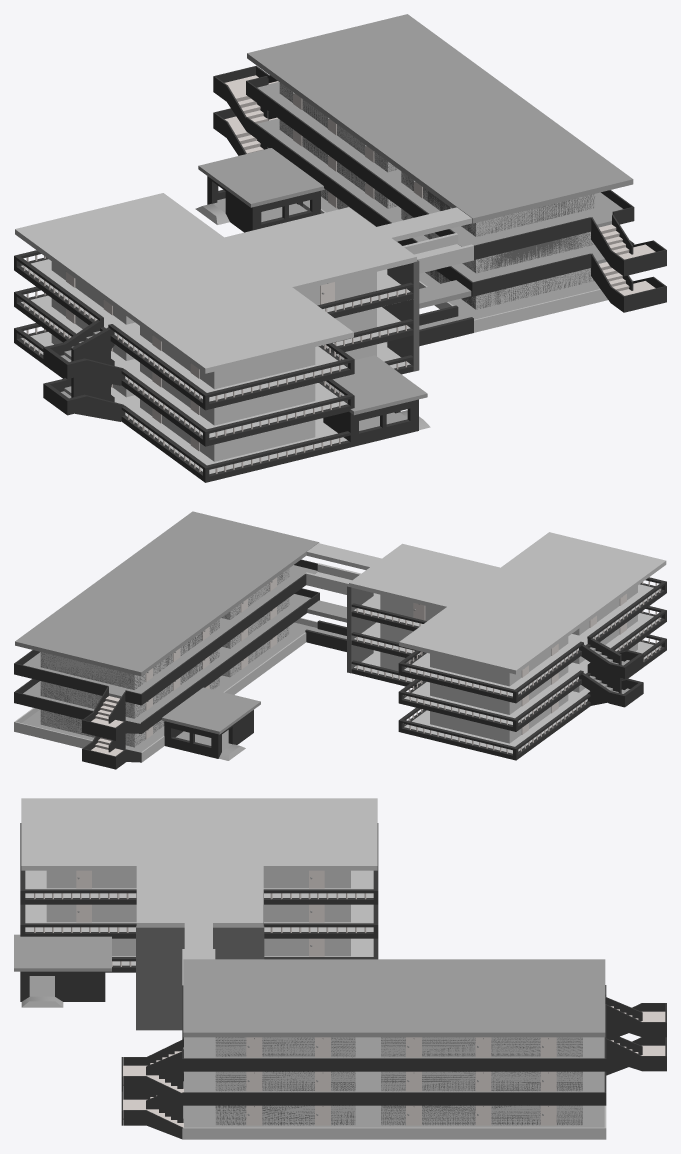
Rendered from Mansion_3.1.fbx.
3 renders of one model, top to bottom at view 1: azimuth 30°, elevation 25°; view 2: azimuth 150°, elevation 25°; view 3: azimuth 270°, elevation 25°, orthographic. The views are drawn at different scales.
Parts seen in each view (by area): view 1: 1st3F_Ceiling-MeshC, 2nd3F_Ceiling_BoxC, 2nd3F_Wall_MeshC, 2nd2F_Wall_MeshC, 2ndLobby_Ceiling-BoxC, 1st3F_Room-MeshC, 1st3F_Floor-MeshC, 2nd3F_Floor_BoxC, 1st2F_Floor-MeshC, 1st2F_Room-MeshC, PassageWay_3F-MeshC, 2nd3F_Room_MeshC (+37 smaller); view 2: 1st3F_Ceiling-MeshC, 2nd3F_Ceiling_BoxC, 2nd3F_Wall_MeshC, 2nd2F_Wall_MeshC, 2ndLobby_Ceiling-BoxC, 1st3F_Floor-MeshC, 2nd3F_Room_MeshC, 1st3F_Room-MeshC, 1st2F_Floor-MeshC, 2nd3F_Floor_BoxC, 2nd1F_Wall_MeshC, 1st2F_Room-MeshC (+35 smaller); view 3: 2nd3F_Ceiling_BoxC, 1st3F_Ceiling-MeshC, 2nd3F_Wall_MeshC, 2nd2F_Wall_MeshC, 2nd1F_Wall_MeshC, 2nd3F_Room_MeshC, 2nd2F_Room_MeshC, 2nd1F_Room_MeshC, 2ndDoor, 1stLobby_Ceiling-BoxC, 1st3F_Wall7, 2nd1F_Floor_BoxC (+33 smaller).
Boxes of the visible parts, x1,y1,x2,y2 form: 1st3F_Ceiling-MeshC: (15, 193, 416, 373); 2nd3F_Ceiling_BoxC: (247, 14, 633, 223); 2nd3F_Wall_MeshC: (246, 76, 634, 259); 2nd2F_Wall_MeshC: (246, 117, 634, 296); 2ndLobby_Ceiling-BoxC: (198, 148, 324, 207); 1st3F_Room-MeshC: (51, 261, 376, 389); 1st3F_Floor-MeshC: (21, 259, 410, 401); 2nd3F_Floor_BoxC: (257, 82, 622, 246); 1st2F_Floor-MeshC: (21, 295, 410, 437); 1st2F_Room-MeshC: (51, 298, 376, 425); PassageWay_3F-MeshC: (377, 207, 473, 273); 2nd3F_Room_MeshC: (279, 82, 595, 236); 1st3F_Ceiling-MeshC: (349, 532, 666, 674); 2nd3F_Ceiling_BoxC: (15, 511, 319, 676); 2nd3F_Wall_MeshC: (14, 559, 317, 705); 2nd2F_Wall_MeshC: (14, 588, 319, 733); 2ndLobby_Ceiling-BoxC: (161, 687, 260, 734); 1st3F_Floor-MeshC: (354, 584, 660, 696); 2nd3F_Room_MeshC: (40, 568, 289, 689); 1st3F_Room-MeshC: (380, 585, 637, 686); 1st2F_Floor-MeshC: (354, 613, 661, 724); 2nd3F_Floor_BoxC: (23, 565, 317, 698); 2nd1F_Wall_MeshC: (14, 618, 317, 762); 1st2F_Room-MeshC: (380, 614, 637, 714); 2nd3F_Ceiling_BoxC: (183, 959, 605, 1037); 1st3F_Ceiling-MeshC: (21, 798, 377, 927); 2nd3F_Wall_MeshC: (182, 985, 606, 1071); 2nd2F_Wall_MeshC: (182, 1071, 606, 1105); 2nd1F_Wall_MeshC: (182, 1105, 606, 1139); 2nd3F_Room_MeshC: (215, 1037, 582, 1057); 2nd2F_Room_MeshC: (215, 1071, 582, 1091); 2nd1F_Room_MeshC: (215, 1105, 582, 1125); 2ndDoor: (246, 1037, 556, 1125); 1stLobby_Ceiling-BoxC: (14, 934, 111, 971); 1st3F_Wall7: (136, 925, 264, 962); 2nd1F_Floor_BoxC: (184, 1105, 604, 1127).
Size of what is drawn, in the model's own units: 3453 by 662 by 3664.
